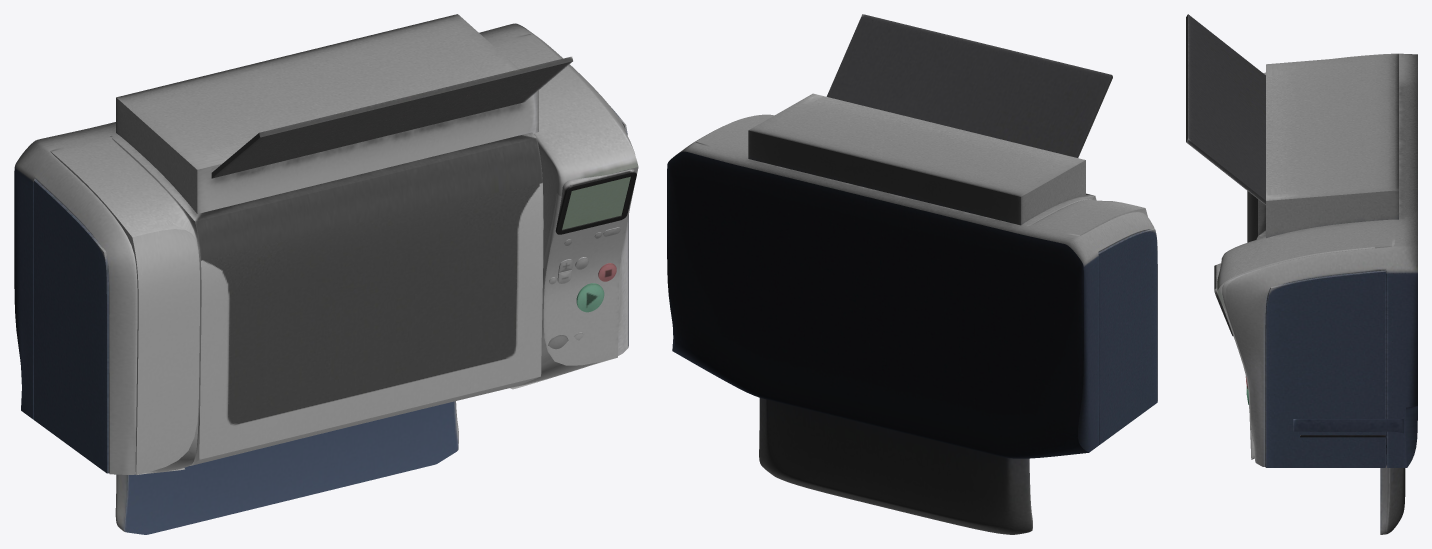
The model's file is impresora.gltf.
3 views of the same model, side by side, from view 1: azimuth 30°, elevation 25°; view 2: azimuth 150°, elevation 25°; view 3: azimuth 270°, elevation 25° (orthographic). The views are drawn at different scales.
Visible parts, largest first — view 1: 10107_Computer_Printer_v1; view 2: 10107_Computer_Printer_v1; view 3: 10107_Computer_Printer_v1.
Part boxes in pixels (bbox=[...]): 10107_Computer_Printer_v1: bbox=[14, 14, 638, 534]; 10107_Computer_Printer_v1: bbox=[667, 14, 1157, 534]; 10107_Computer_Printer_v1: bbox=[1186, 14, 1417, 534].
Bounding box in the file's own units: 41.96 × 37.53 × 19.65.
1 material, 1 textured.
